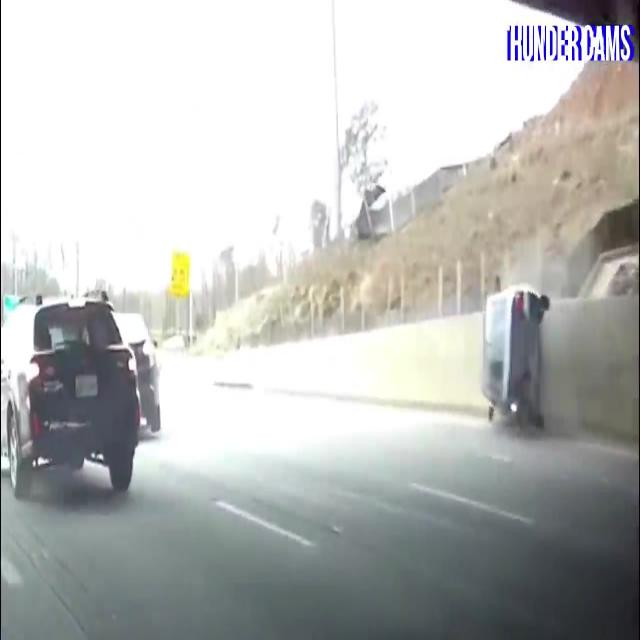accident: (465, 263, 584, 465)
